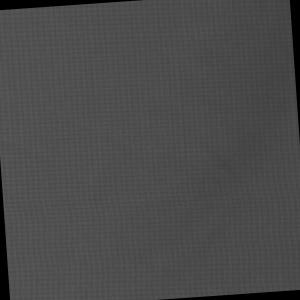Wrinkle: (140, 38, 300, 291)
